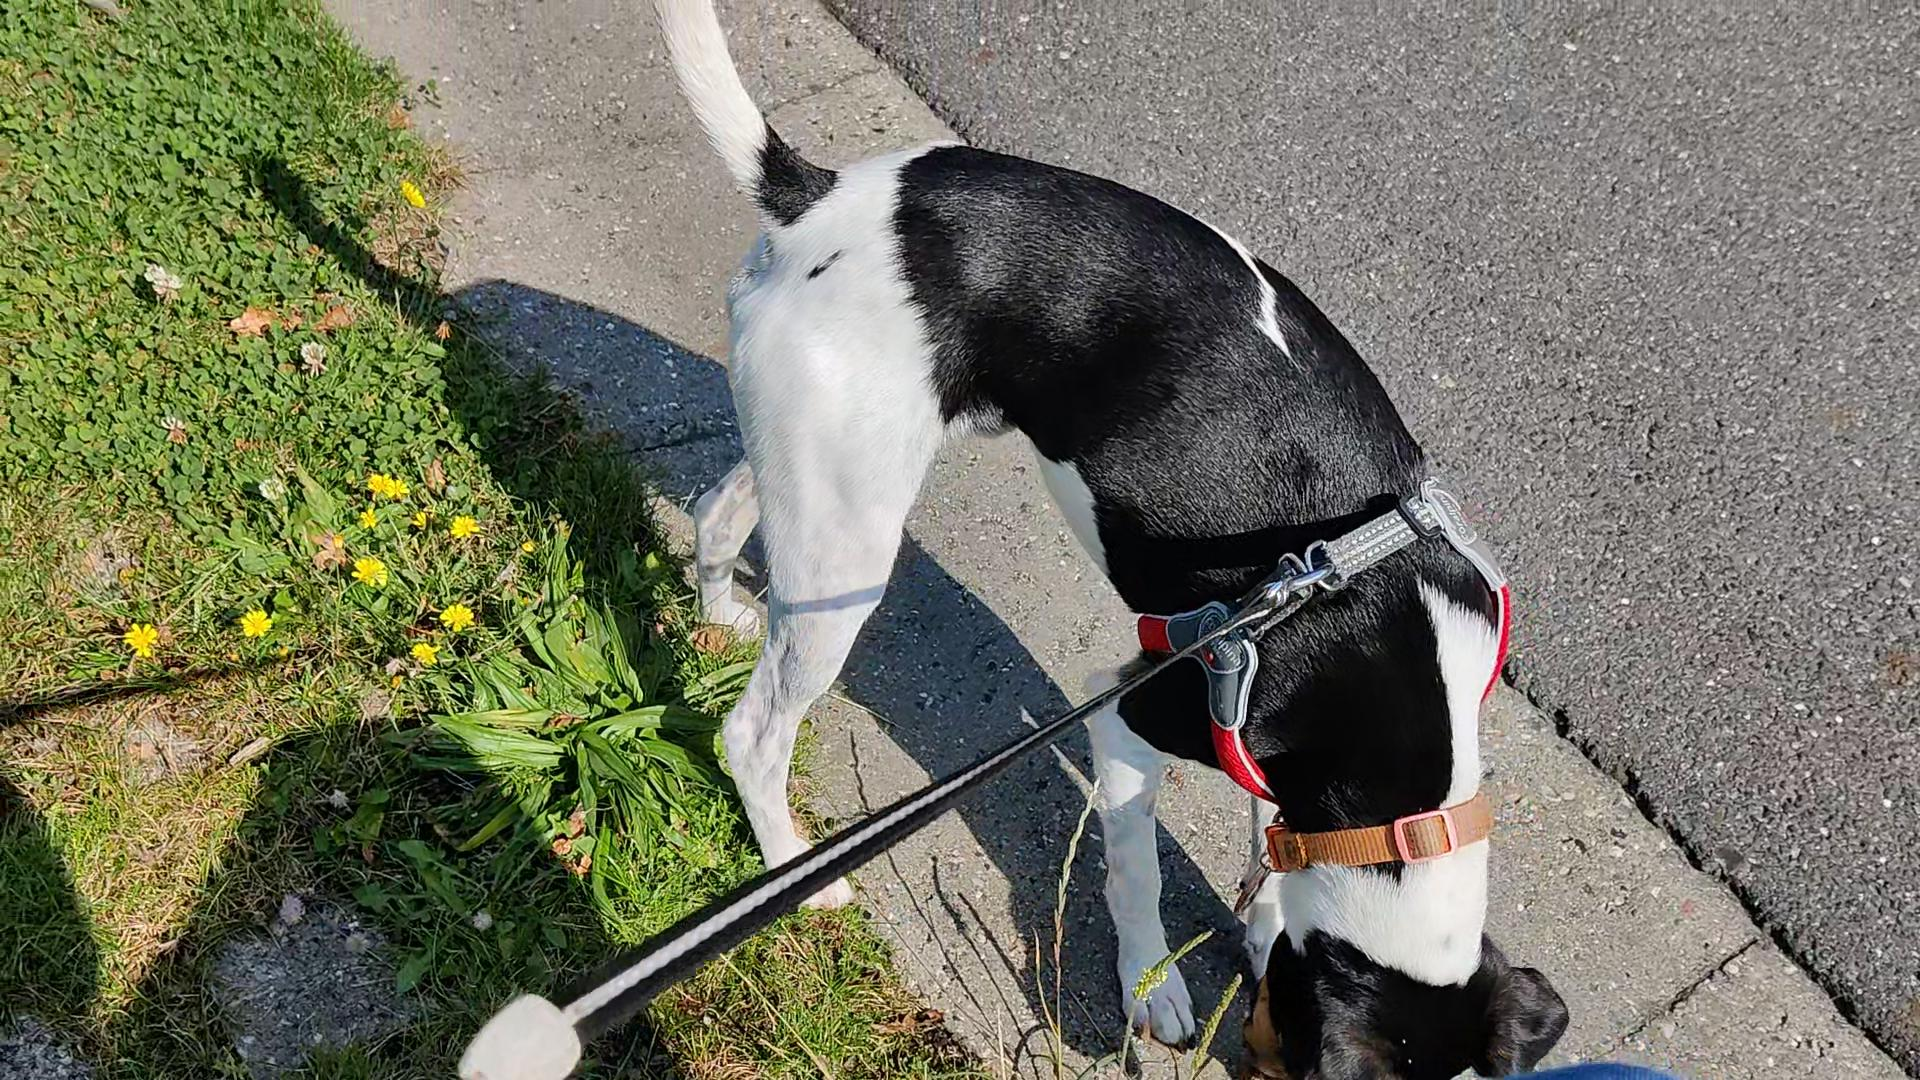Dog: (644, 0, 1584, 1079)
